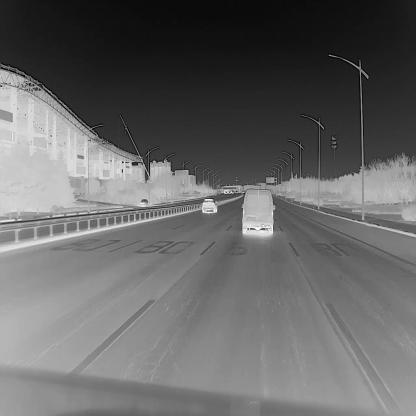car: (242, 186, 274, 233), (202, 196, 218, 212), (140, 197, 149, 207), (235, 190, 238, 194), (231, 190, 234, 194), (224, 191, 228, 194), (242, 190, 245, 193), (228, 191, 231, 194)
